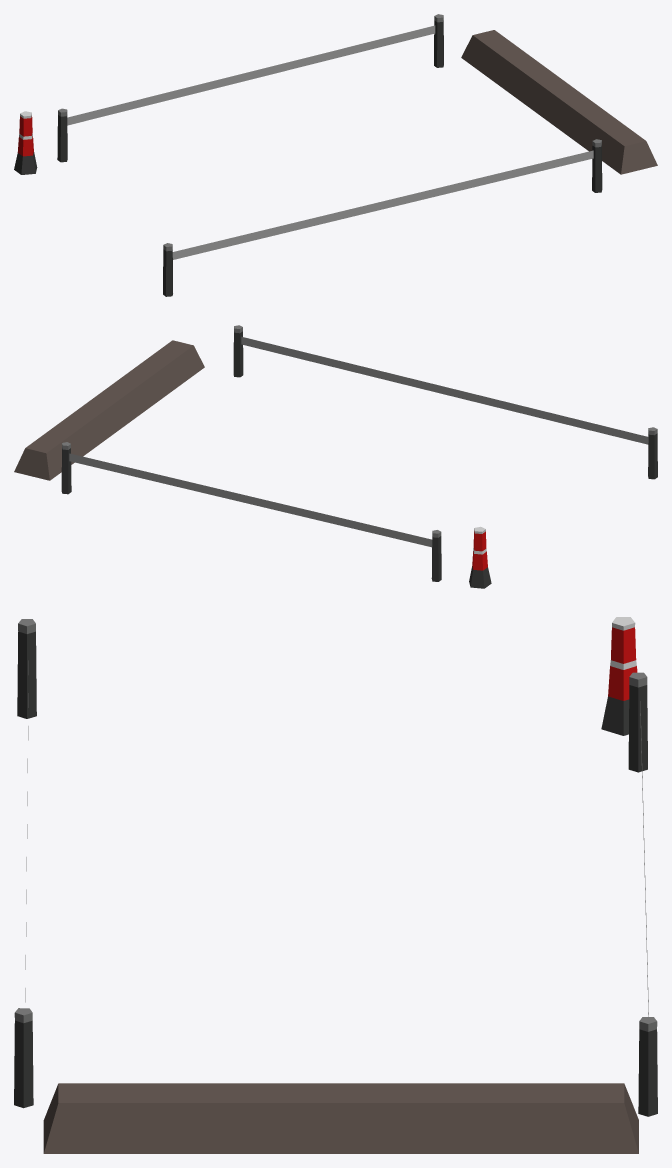
Rendered from ParkingSpot.glb.
3 views of the same model, one above another, from view 1: azimuth 30°, elevation 25°; view 2: azimuth 150°, elevation 25°; view 3: azimuth 270°, elevation 25° (orthographic). The views are drawn at different scales.
Visible parts, largest first — view 1: ParkingSpot; view 2: ParkingSpot; view 3: ParkingSpot.
Part boxes in pixels (x1=…): ParkingSpot: x1=14, y1=14, x2=657, y2=296; ParkingSpot: x1=14, y1=325, x2=657, y2=588; ParkingSpot: x1=14, y1=617, x2=657, y2=1153.
Bounding box in the file's own units: 7.11 × 0.8084 × 4.28.
1 material, 1 textured.
